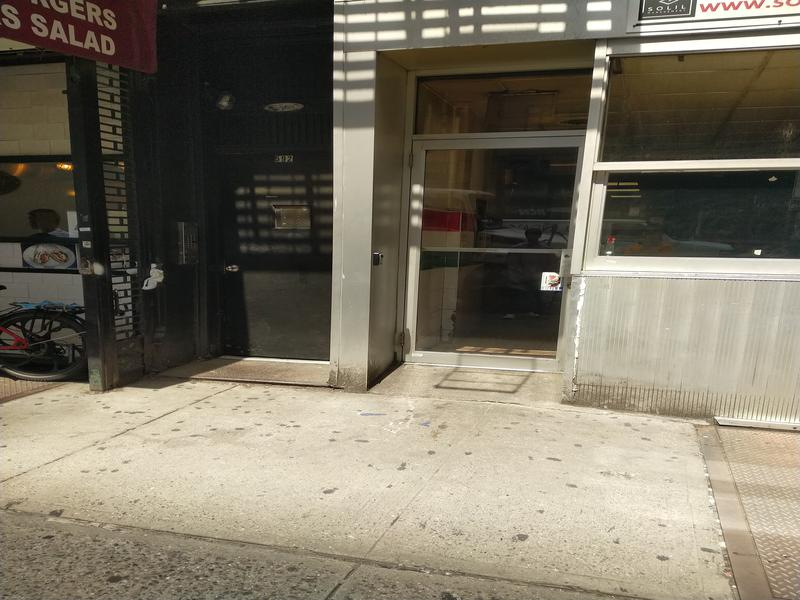door: (402, 123, 583, 376)
